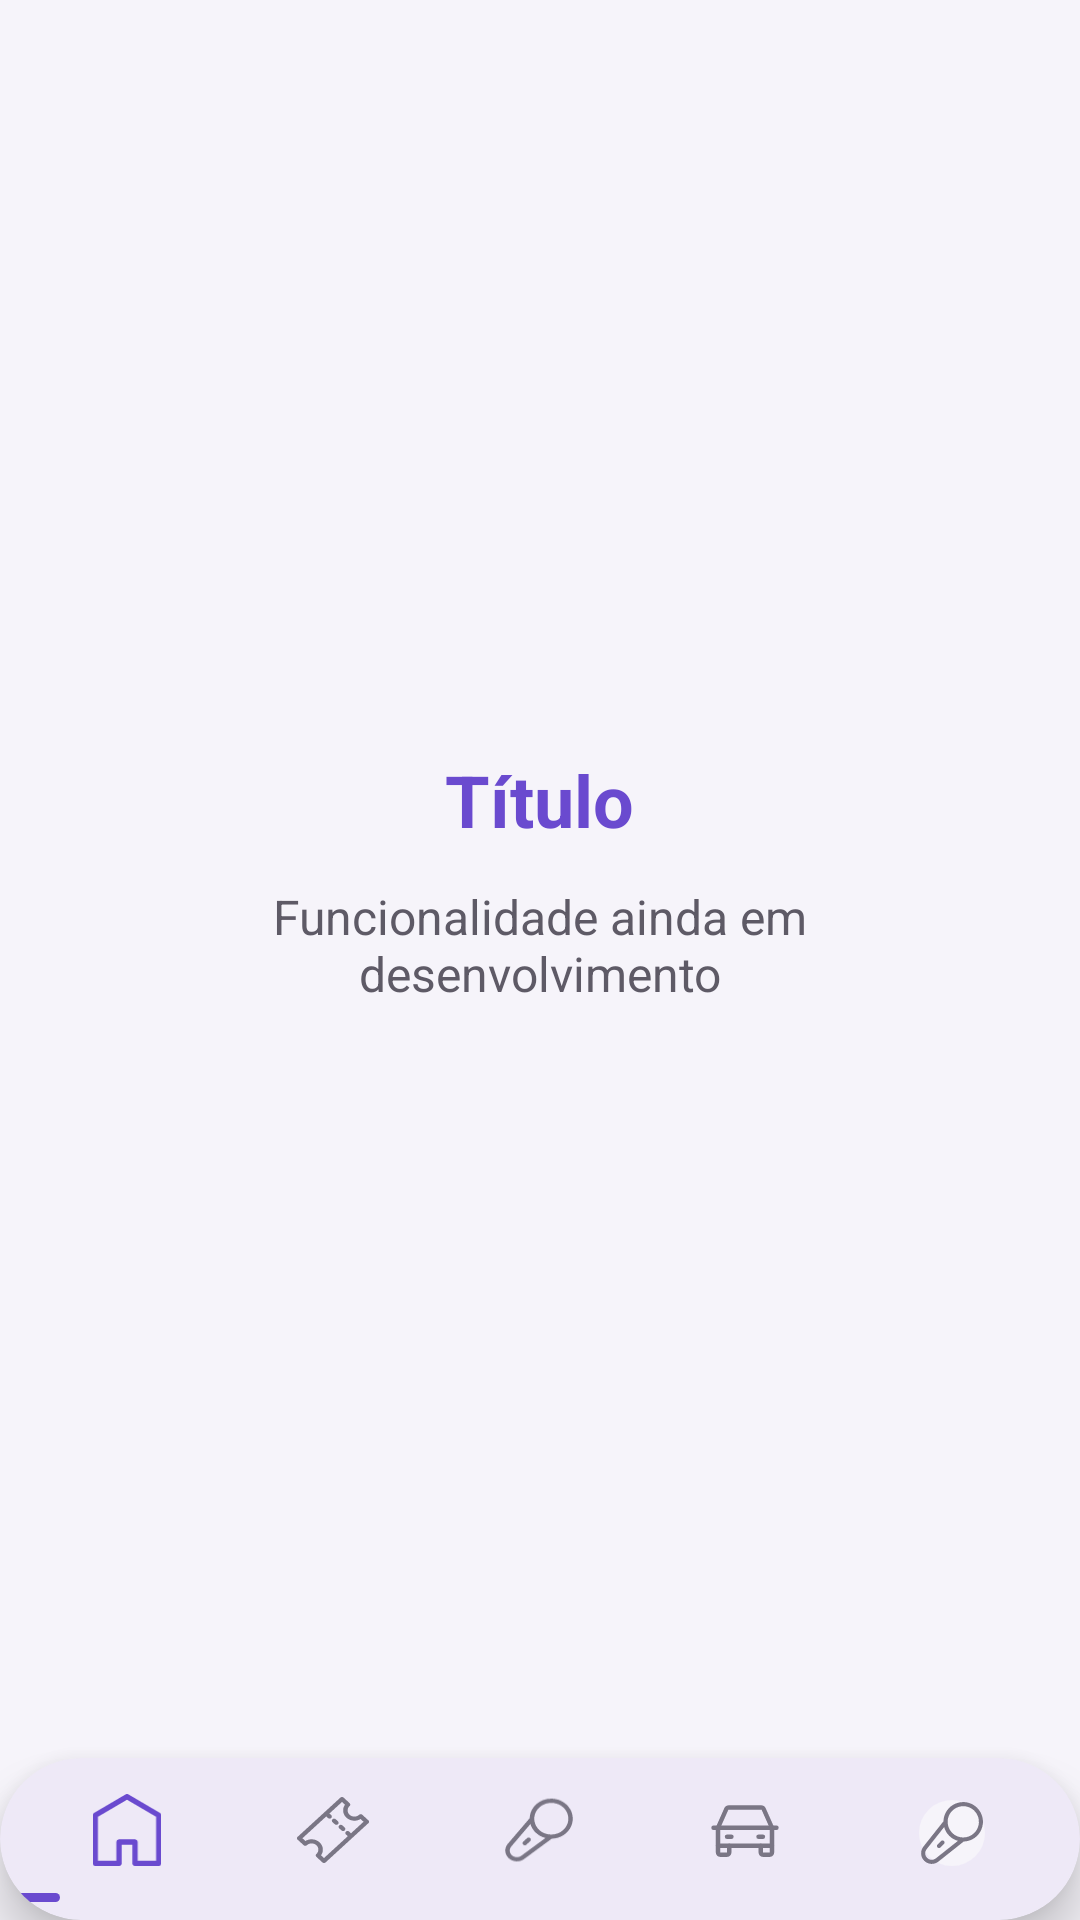

Icons on this 1080 × 1920 Android screen, each with the point to tap as point (x, y):
home: point (127, 1830)
mic: point (539, 1830)
ticket: point (333, 1830)
